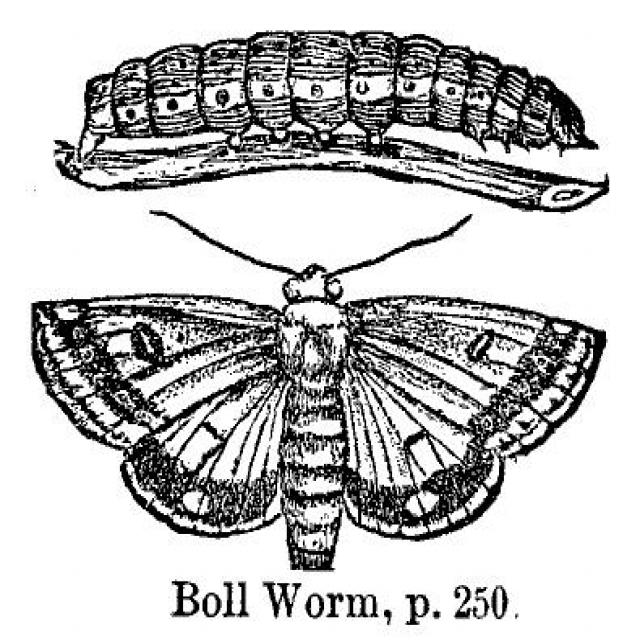armyworm: (35, 215, 606, 550), (75, 30, 586, 211)
